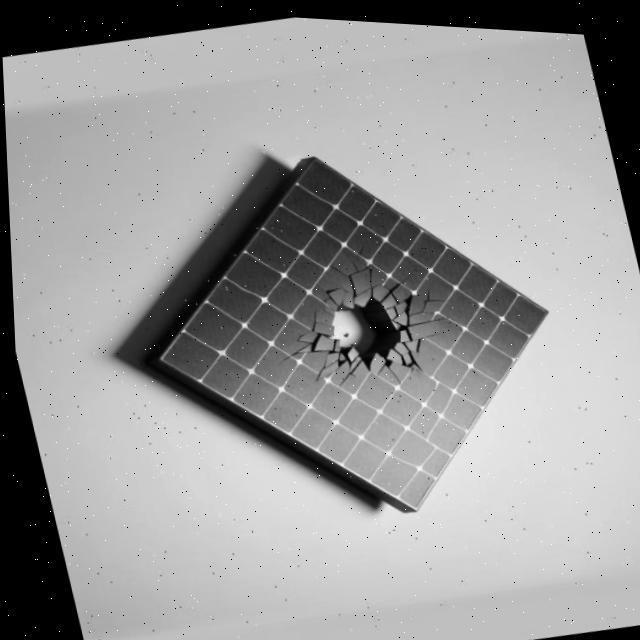Anomaly Solar Panel: (159, 138, 547, 523)
Structural Damage: (279, 232, 462, 427)
